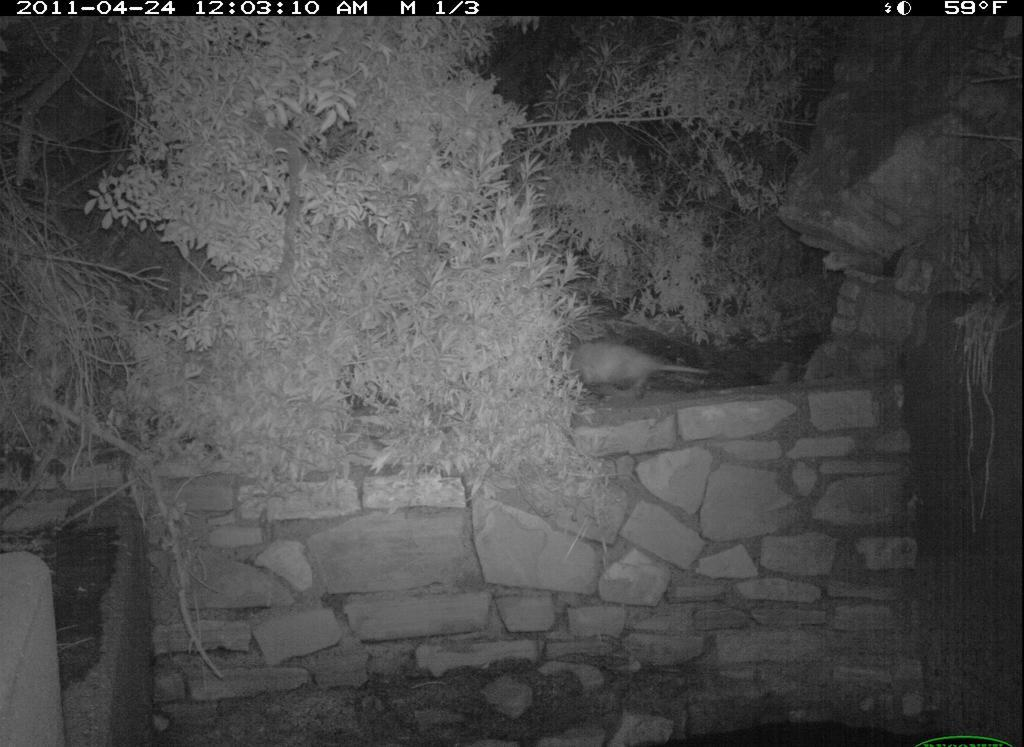opossum: (551, 337, 710, 409)
